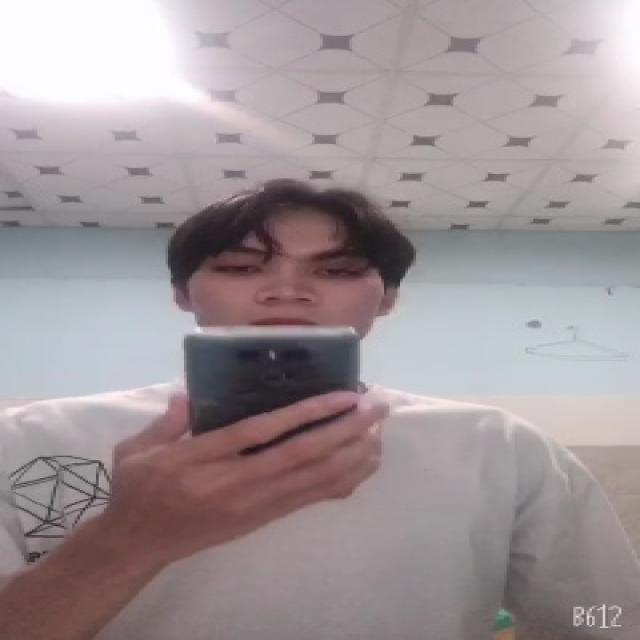Phone: (179, 322, 366, 458)
